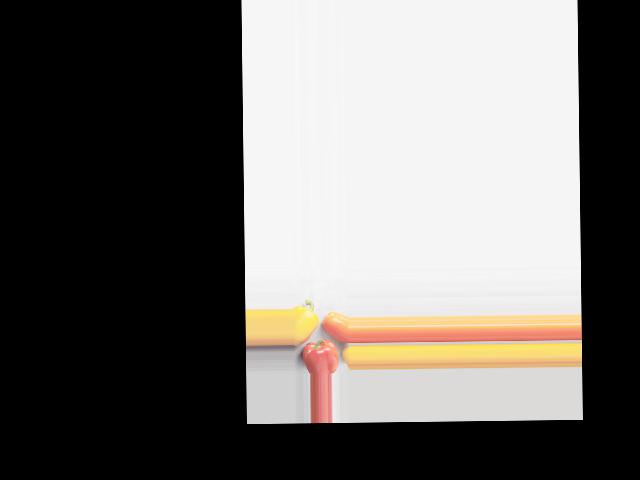bell_pepper: (299, 340, 338, 373)
